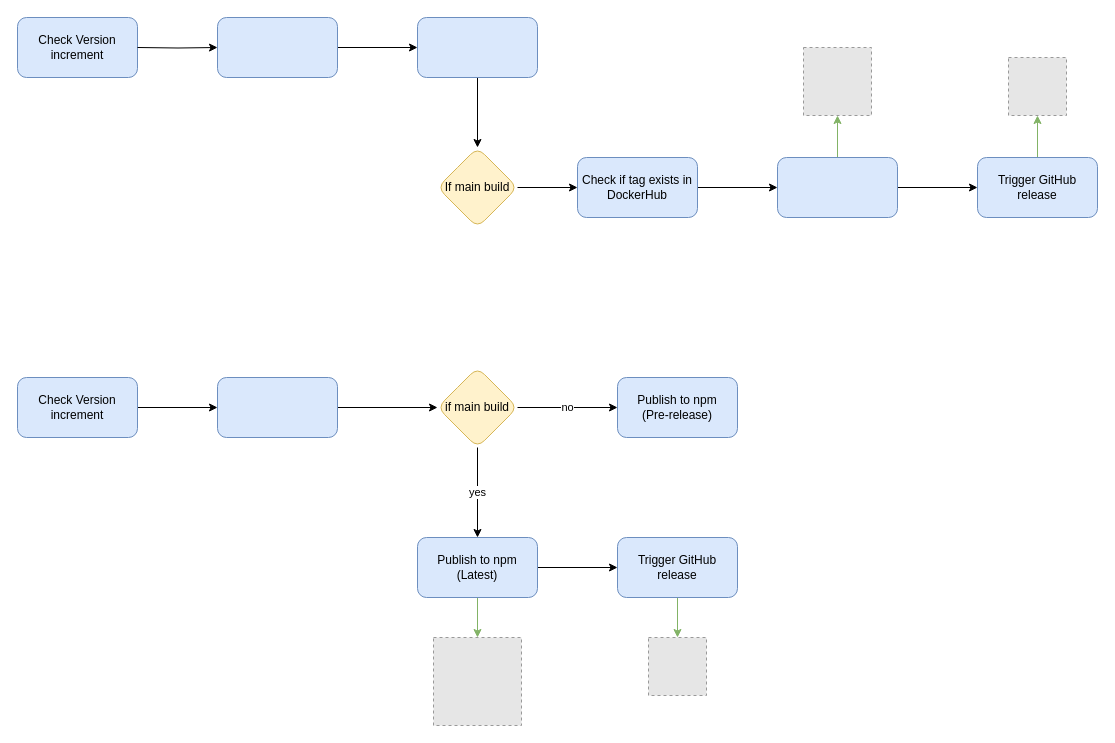
The diagram is 1115 pixels wide and 743 high, and some of its shapes have lost their labels. Grey dashed boxes stand in for pictures. Each missing label, with the box of its shape:
Build Image: (416, 16, 538, 78)
Get build and PR data: (216, 16, 338, 78)
Get PR data: (216, 376, 338, 438)
Push to DockerHub: (776, 156, 898, 218)
